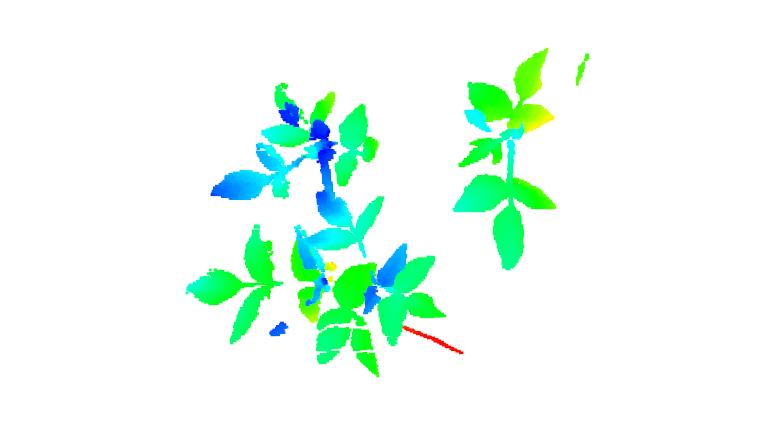mungbean: (183, 231, 383, 379), (205, 79, 391, 227), (453, 44, 570, 269), (307, 191, 450, 346)
